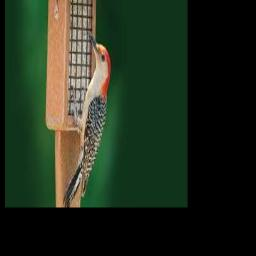Woodpecker: (63, 31, 111, 205)
